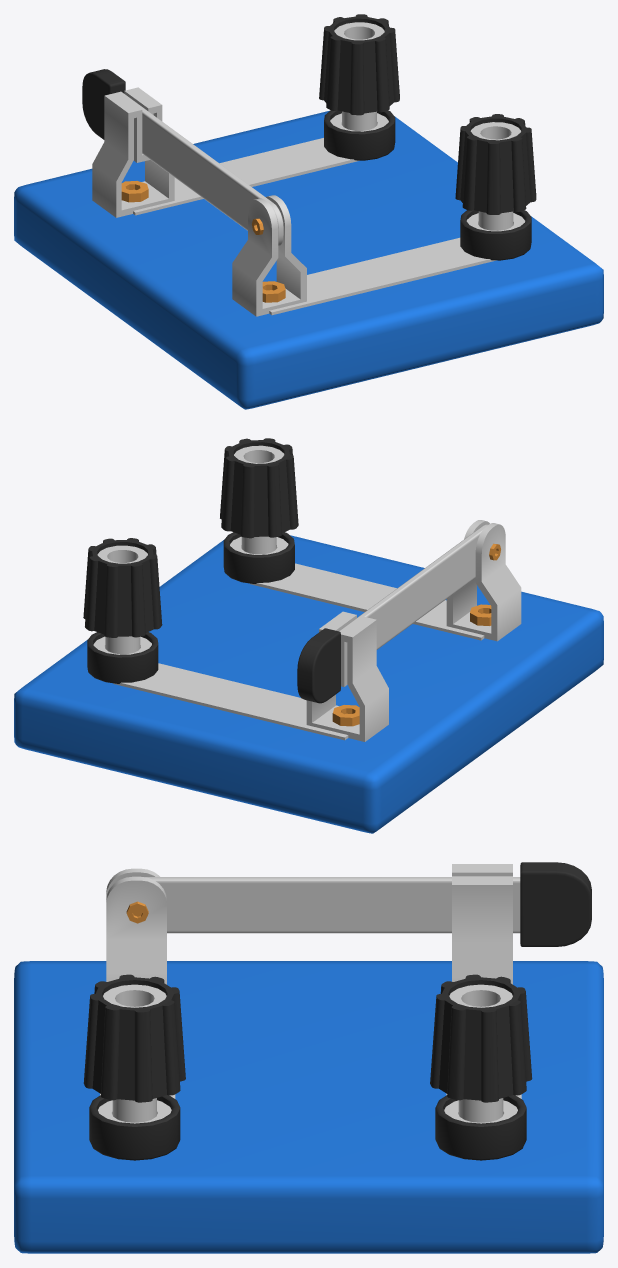
File: Comp_Swich.fbx
3 renders of one model, top to bottom at view 1: azimuth 30°, elevation 25°; view 2: azimuth 150°, elevation 25°; view 3: azimuth 270°, elevation 25°, orthographic. The views are drawn at different scales.
Parts seen in each view (by area): view 1: One Way Switch, Cube.011, Handle.001, Cube.010, Cube.008, Circle.008; view 2: One Way Switch, Cube.011, Handle.001, Cube.010, Cube.008, Circle.008; view 3: One Way Switch, Cube.011, Handle.001, Cube.010, Cube.008.
Boxes of the visible parts, left/top/right/bottom form: One Way Switch: left=14, top=110, right=603, bottom=409; Cube.011: left=133, top=14, right=536, bottom=315; Handle.001: left=82, top=69, right=283, bottom=246; Cube.010: left=92, top=87, right=174, bottom=217; Cube.008: left=232, top=195, right=306, bottom=316; Circle.008: left=121, top=181, right=148, bottom=202; One Way Switch: left=14, top=535, right=603, bottom=833; Cube.011: left=83, top=438, right=484, bottom=740; Handle.001: left=297, top=524, right=488, bottom=703; Cube.010: left=306, top=611, right=388, bottom=741; Cube.008: left=446, top=520, right=521, bottom=641; Circle.008: left=332, top=705, right=359, bottom=726; One Way Switch: left=14, top=961, right=603, bottom=1253; Cube.011: left=83, top=974, right=532, bottom=1160; Handle.001: left=144, top=862, right=591, bottom=946; Cube.010: left=452, top=864, right=512, bottom=984; Cube.008: left=106, top=868, right=166, bottom=984.
Size of the model in its own units: 154 by 71.46 by 170.
